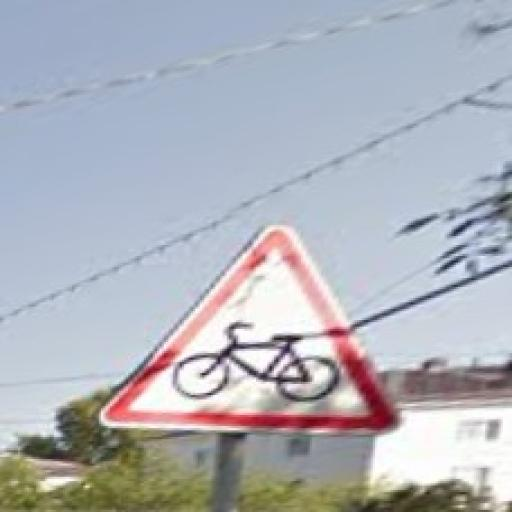traffic_sign: (98, 226, 403, 438)
